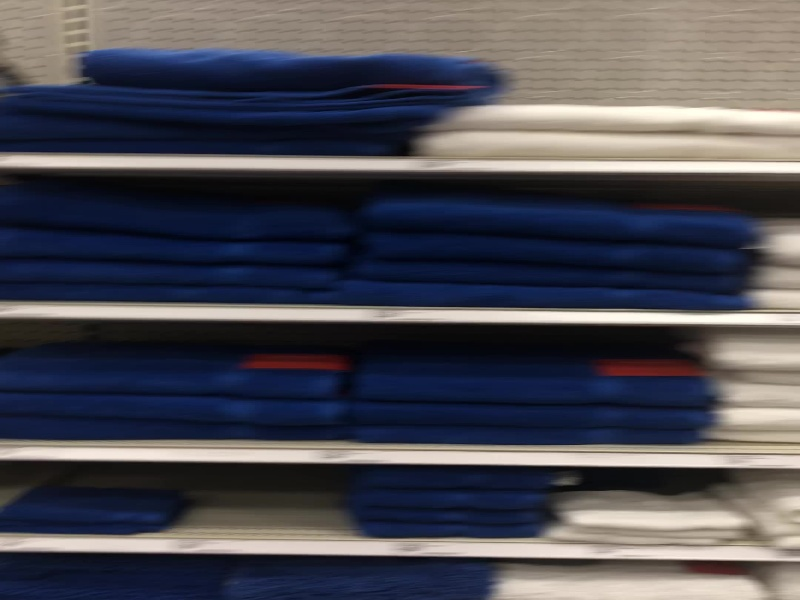empty_shelf_space: (168, 464, 352, 536)
